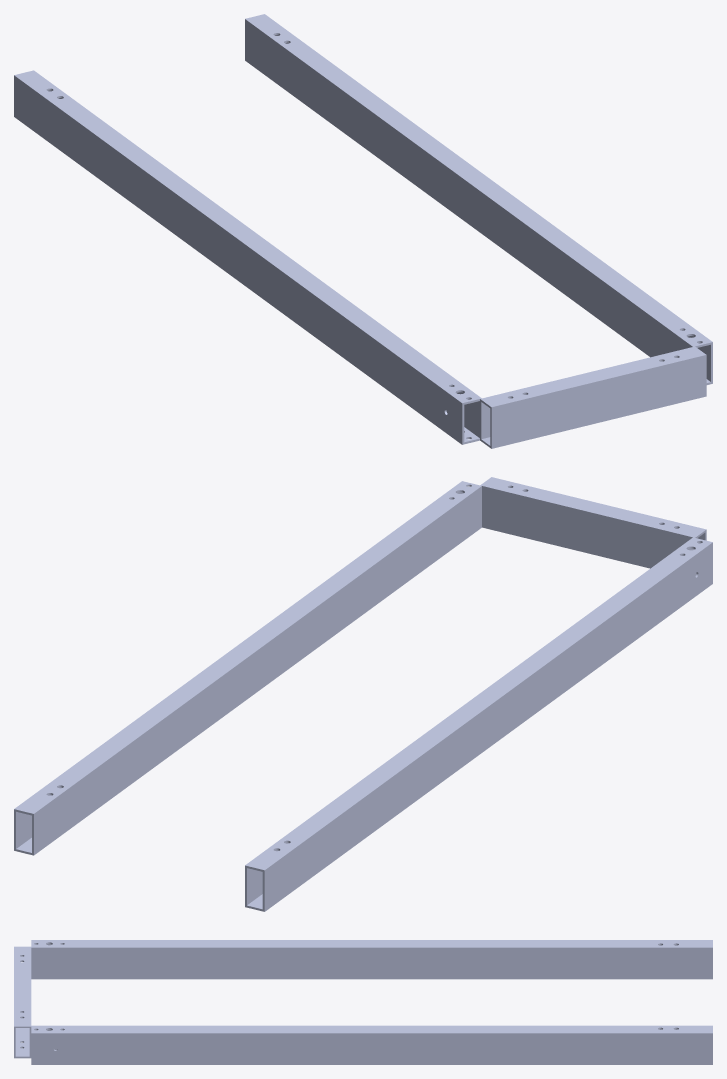
The picture shows the model from 3 angles, top to bottom: view 1: azimuth 30°, elevation 25°; view 2: azimuth 150°, elevation 25°; view 3: azimuth 270°, elevation 25°; orthographic projection. The views are drawn at different scales.
Parts seen in each view (by area): view 1: SOLID (×3); view 2: SOLID (×3); view 3: SOLID (×3).
Part boxes in pixels (x1,y1,x2,y2): SOLID (×3): (14,14,712,448); SOLID (×3): (14,477,712,911); SOLID (×3): (14,940,712,1064).
Size of the model in its own units: 0.252 by 0.04 by 0.8.
